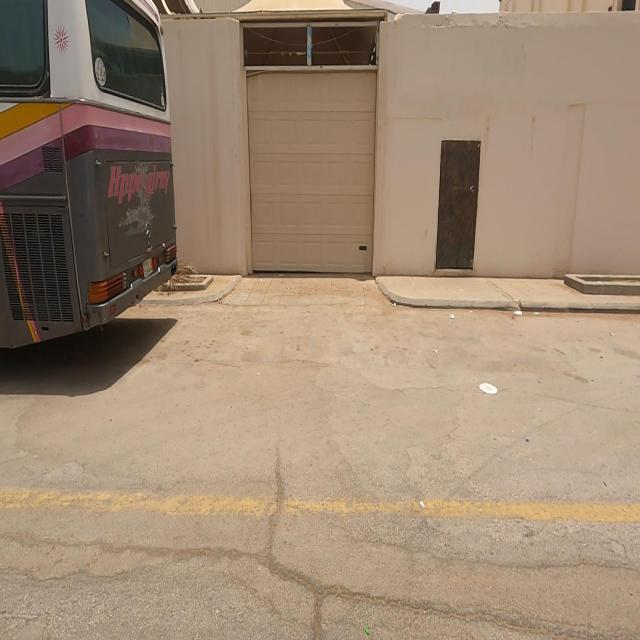debris: (442, 327, 520, 433), (484, 268, 546, 354), (422, 283, 480, 353)
